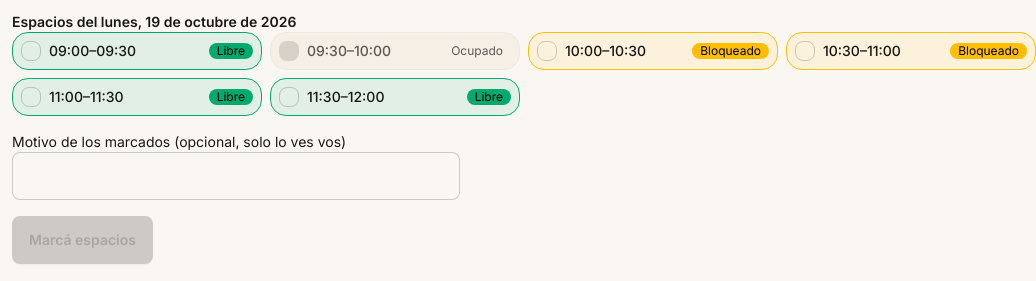
Test: SlotPicker — US-AGE-07, criterio 3: liberar espacios con el mismo selector › si alguno ya estaba liberado, avisa y no deja el mensaje en una región que desaparece
Click the checkbox labelled "10:00–10:30 Bloqueado": x=547, y=51 [537,41,557,61]
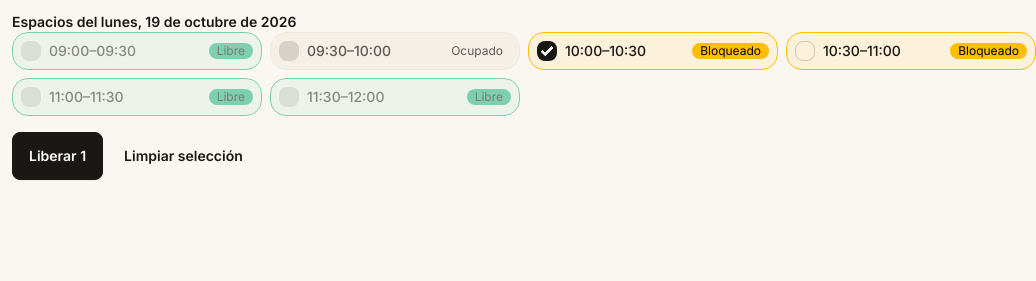
Click the button "Liberar 1": x=58, y=156 [12,132,103,180]
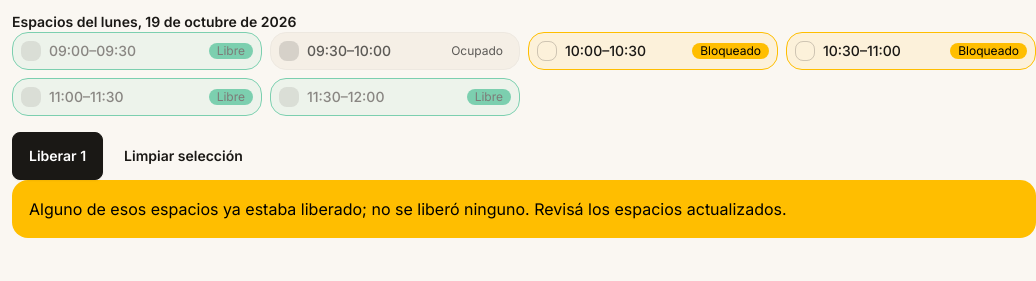
Expected: the message shows "Alguno de esos espacios ya estaba liberado; no se liberó ninguno. Revisá los espacios actualizados.", [29,199,787,219]
